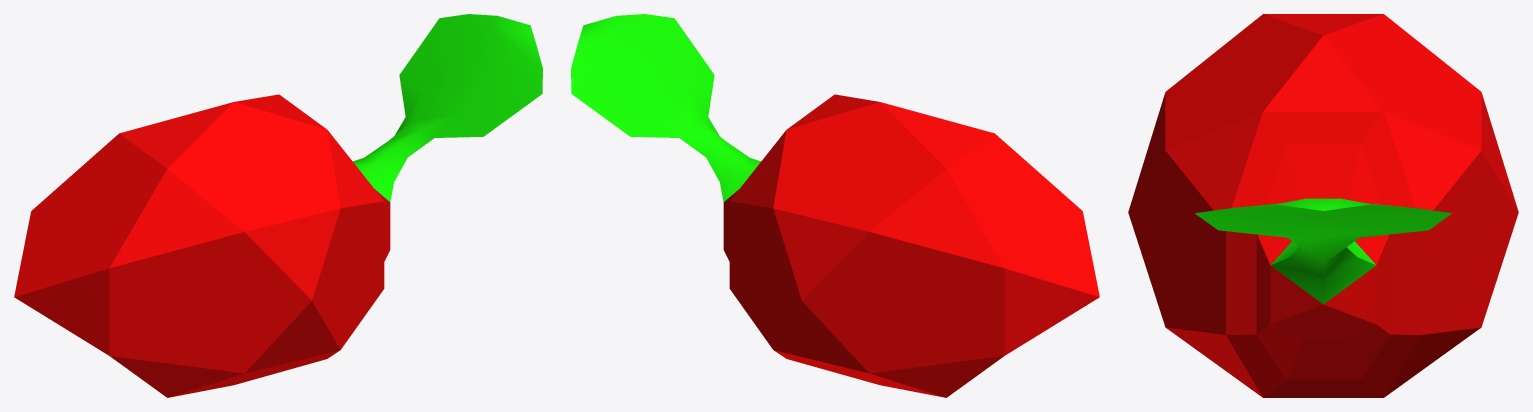
Rendered from plant.FBX.
3 views of the same model, side by side, from view 1: azimuth 30°, elevation 25°; view 2: azimuth 150°, elevation 25°; view 3: azimuth 270°, elevation 25° (orthographic). The views are drawn at different scales.
Visible parts, largest first — view 1: Hedra001; view 2: Hedra001; view 3: Hedra001.
Part boxes in pixels (<box>): Hedra001: <box>14,14,542,397</box>; Hedra001: <box>571,14,1099,397</box>; Hedra001: <box>1128,14,1518,397</box>.
Bounding box in the file's own units: 165 × 88.57 × 86.66.
